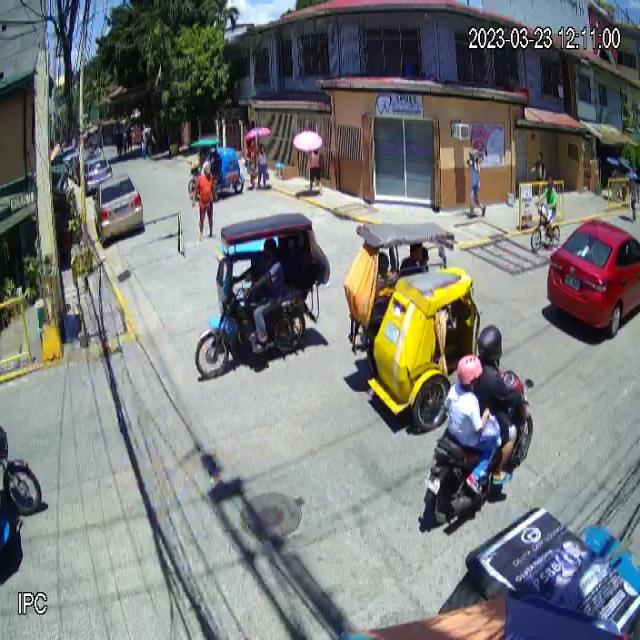Car: (547, 217, 640, 336), (94, 174, 143, 244)
Tricycle: (349, 222, 481, 430), (195, 213, 331, 380)
